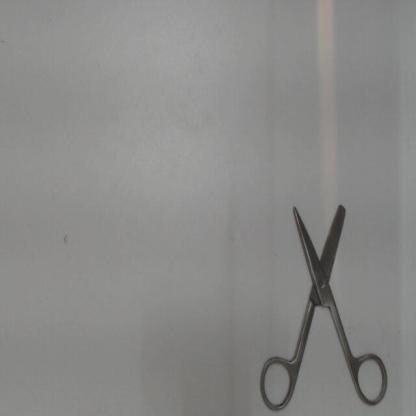Dressing Scissors: (251, 183, 395, 415)
